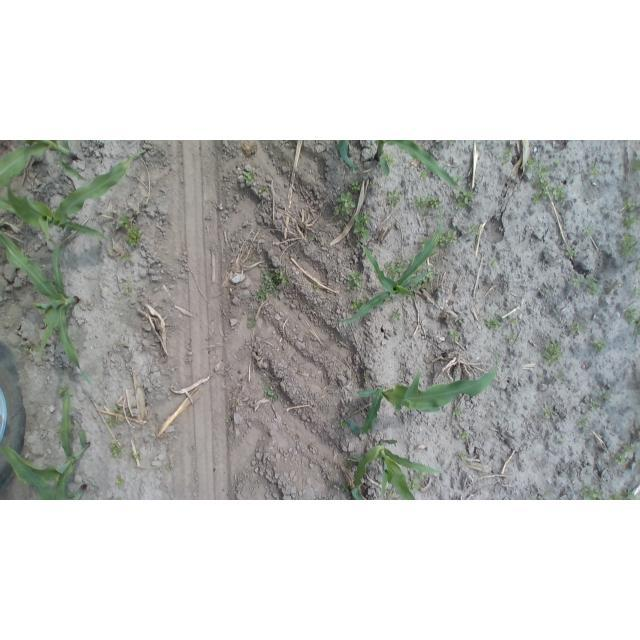Maize: (1, 145, 153, 247), (2, 229, 89, 384), (335, 208, 442, 325), (344, 358, 499, 435), (2, 391, 92, 500), (337, 141, 462, 192), (343, 440, 444, 501), (0, 140, 84, 192), (68, 484, 89, 501)
Weeds: (254, 265, 288, 303), (532, 177, 566, 204), (119, 213, 141, 247), (334, 191, 356, 217), (544, 339, 563, 365), (618, 234, 636, 257), (354, 214, 370, 239), (416, 195, 440, 211), (455, 189, 474, 209), (385, 260, 407, 277), (581, 277, 599, 296), (262, 384, 280, 403), (347, 270, 363, 291), (582, 485, 604, 500), (611, 489, 638, 500), (625, 305, 638, 327), (109, 440, 123, 459), (439, 230, 457, 244), (622, 197, 638, 212), (535, 163, 552, 177), (485, 316, 503, 329), (387, 189, 401, 205), (613, 453, 627, 469), (598, 387, 612, 403), (569, 323, 583, 338), (622, 216, 638, 229), (412, 280, 430, 291), (592, 337, 606, 351), (409, 477, 422, 492), (503, 148, 514, 165), (349, 298, 363, 311), (621, 443, 635, 456), (524, 156, 536, 171), (628, 156, 639, 172), (470, 223, 483, 236), (586, 165, 598, 179), (382, 153, 394, 167), (565, 248, 577, 261), (587, 398, 599, 411), (247, 316, 258, 330), (350, 180, 362, 192), (105, 417, 118, 428), (245, 171, 256, 184), (391, 310, 402, 323), (543, 405, 553, 419), (24, 344, 35, 356), (449, 330, 460, 342), (115, 476, 125, 489), (452, 406, 463, 417), (578, 417, 588, 429), (59, 384, 68, 397), (458, 429, 468, 440), (551, 158, 562, 168), (583, 225, 593, 235), (508, 315, 518, 325), (418, 171, 429, 180), (571, 277, 580, 288), (339, 419, 348, 429), (541, 287, 550, 297), (453, 176, 463, 185), (488, 259, 497, 268), (458, 452, 467, 461), (123, 253, 132, 262), (132, 451, 140, 460), (342, 484, 350, 493), (258, 186, 266, 195), (419, 238, 427, 247), (311, 282, 319, 291), (428, 268, 435, 278), (420, 472, 428, 480), (556, 437, 564, 445), (114, 405, 122, 413), (166, 462, 174, 470), (556, 373, 564, 381), (539, 493, 548, 500), (125, 285, 132, 294), (633, 285, 639, 295), (283, 141, 291, 148), (226, 417, 233, 424), (509, 335, 516, 342), (447, 140, 454, 146), (117, 497, 124, 500)
